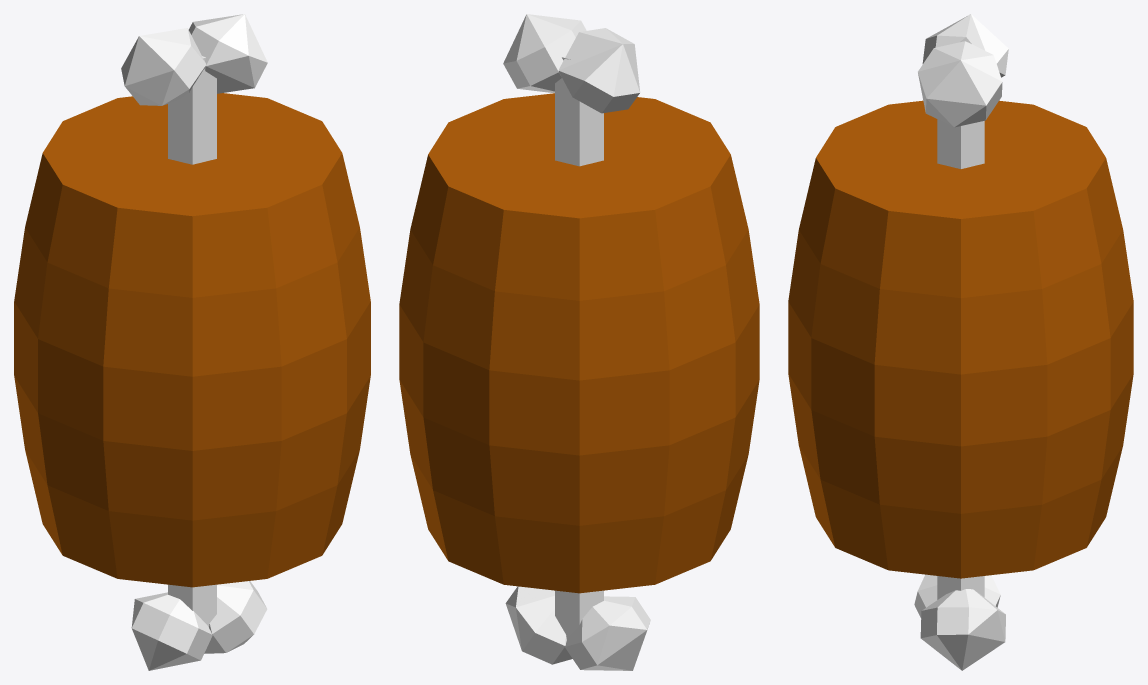
The model's file is redmeat.fbx.
The picture shows the model from 3 angles, left to right: view 1: azimuth 30°, elevation 25°; view 2: azimuth 150°, elevation 25°; view 3: azimuth 270°, elevation 25°; orthographic projection. The views are drawn at different scales.
Parts seen in each view (by area): view 1: polySurface1, polySurface2; view 2: polySurface1, polySurface2; view 3: polySurface1, polySurface2.
Part boxes in pixels (left/top/right/bottom): polySurface1: left=14, top=93, right=370, bottom=587; polySurface2: left=121, top=14, right=267, bottom=670; polySurface1: left=399, top=93, right=759, bottom=593; polySurface2: left=503, top=14, right=650, bottom=670; polySurface1: left=788, top=100, right=1133, bottom=578; polySurface2: left=914, top=14, right=1008, bottom=670.
Size of the model in its own units: 2.38 by 4.64 by 2.38.
